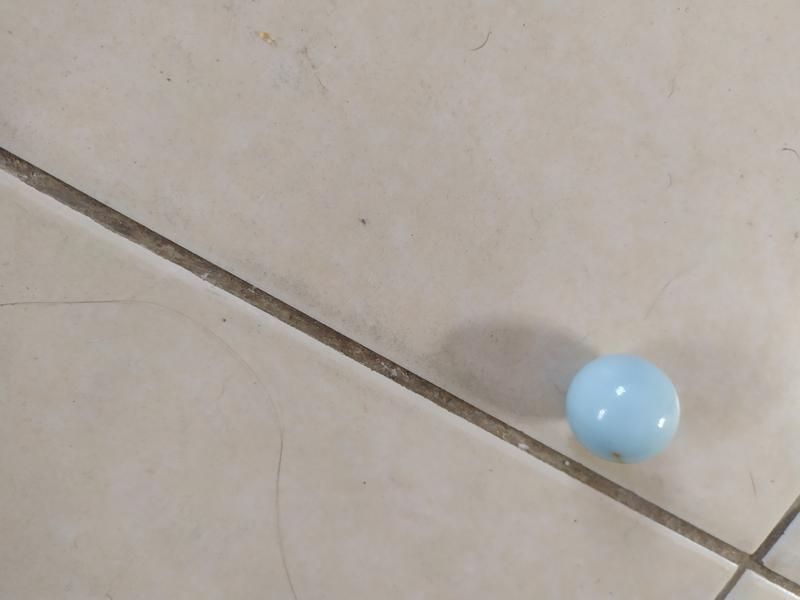Warning: (561, 346, 685, 469)
